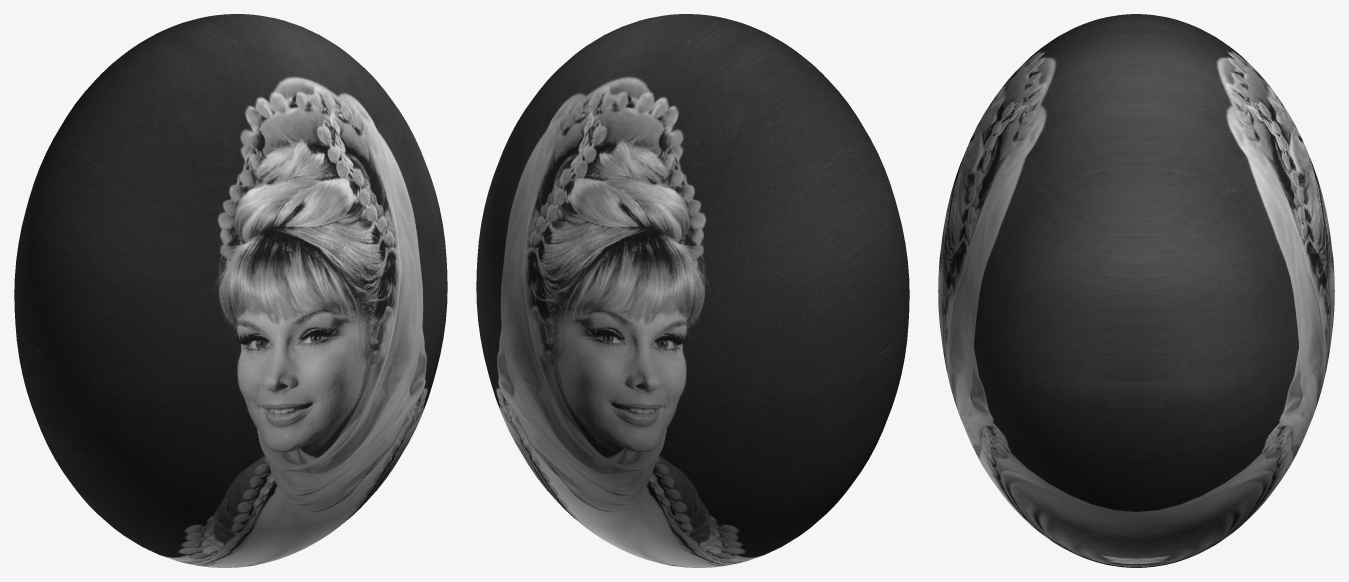
The picture shows the model from 3 angles, left to right: view 1: azimuth 30°, elevation 25°; view 2: azimuth 150°, elevation 25°; view 3: azimuth 270°, elevation 25°; orthographic projection.
Parts seen in each view (by area): view 1: head; view 2: head; view 3: head.
Boxes of the visible parts, left/top/right/bottom form: head: left=14, top=14, right=447, bottom=567; head: left=476, top=14, right=909, bottom=567; head: left=938, top=14, right=1334, bottom=567.
Bounding box in the file's own units: 1.53 × 2 × 1.38.
1 material, 1 textured.
